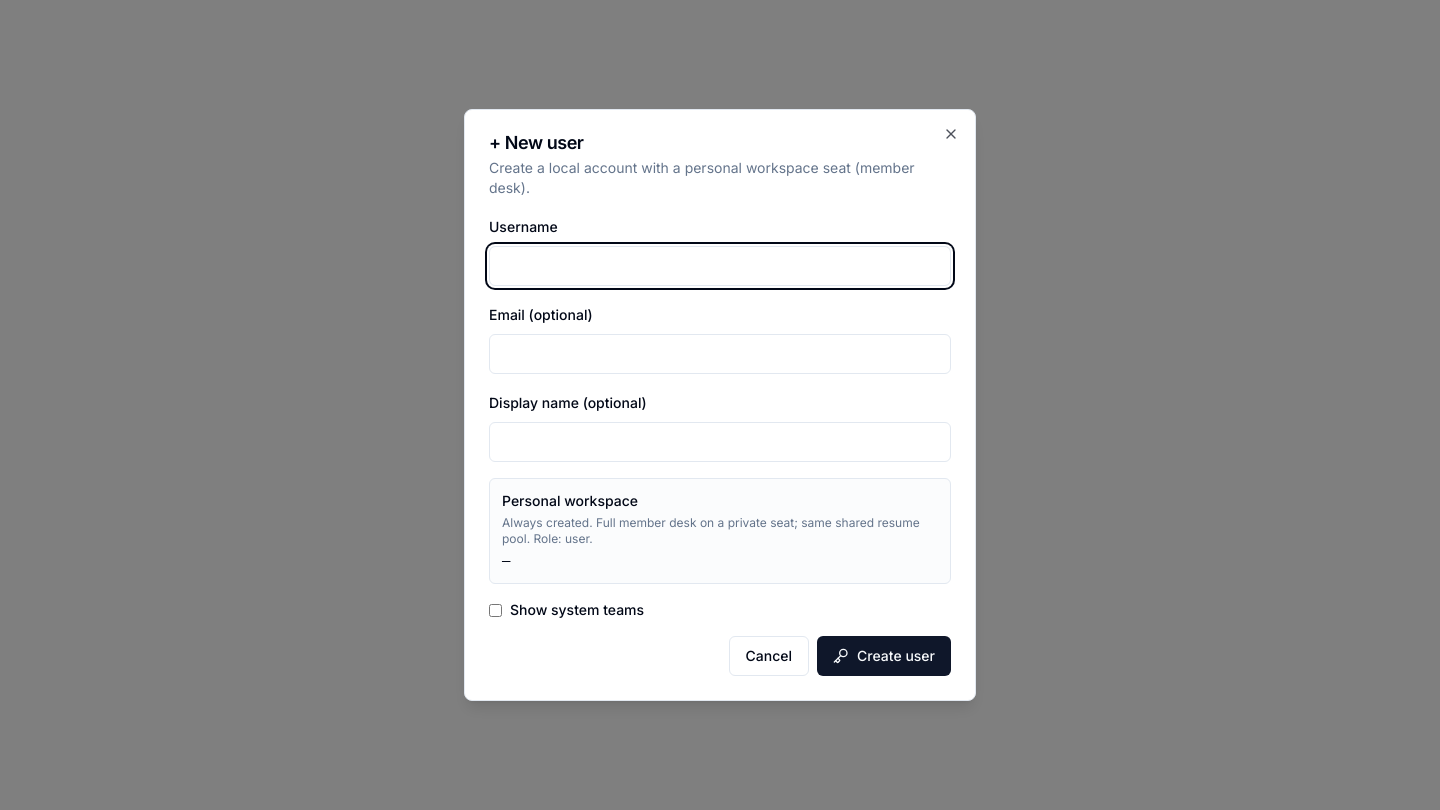
Test: CreateUserDialog › previews personal slug and creates without system memberships by default
The width and height of the screenshot is (1440, 810).
Type "newuser" into the field with test id "create-user-username" at (720, 266), box [489,246,951,286]
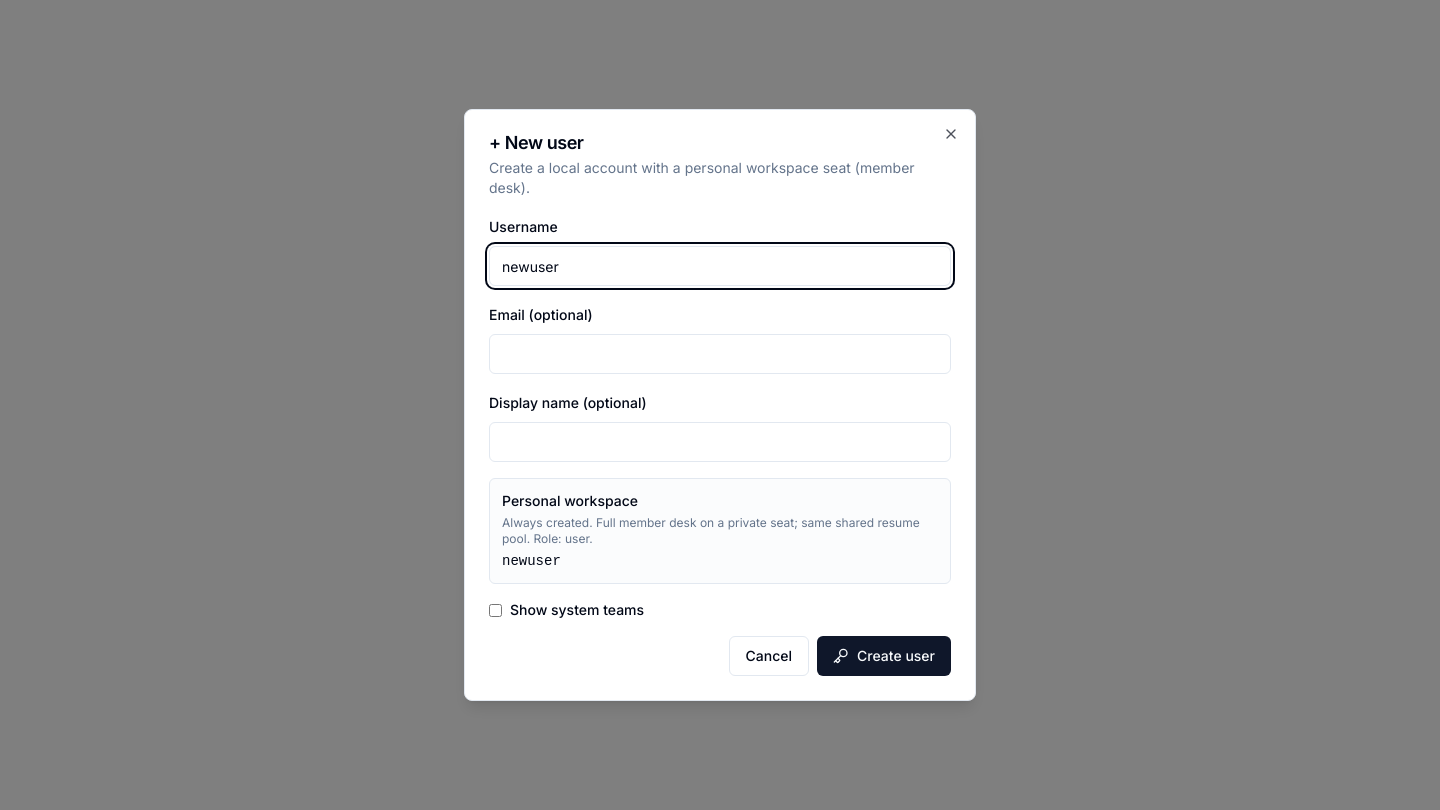
Check: the text with test id "create-user-personal-slug" reads "newuser", box [502,553,561,569]
Click the button with test id "create-user-submit" at (884, 656), box [817,636,951,676]
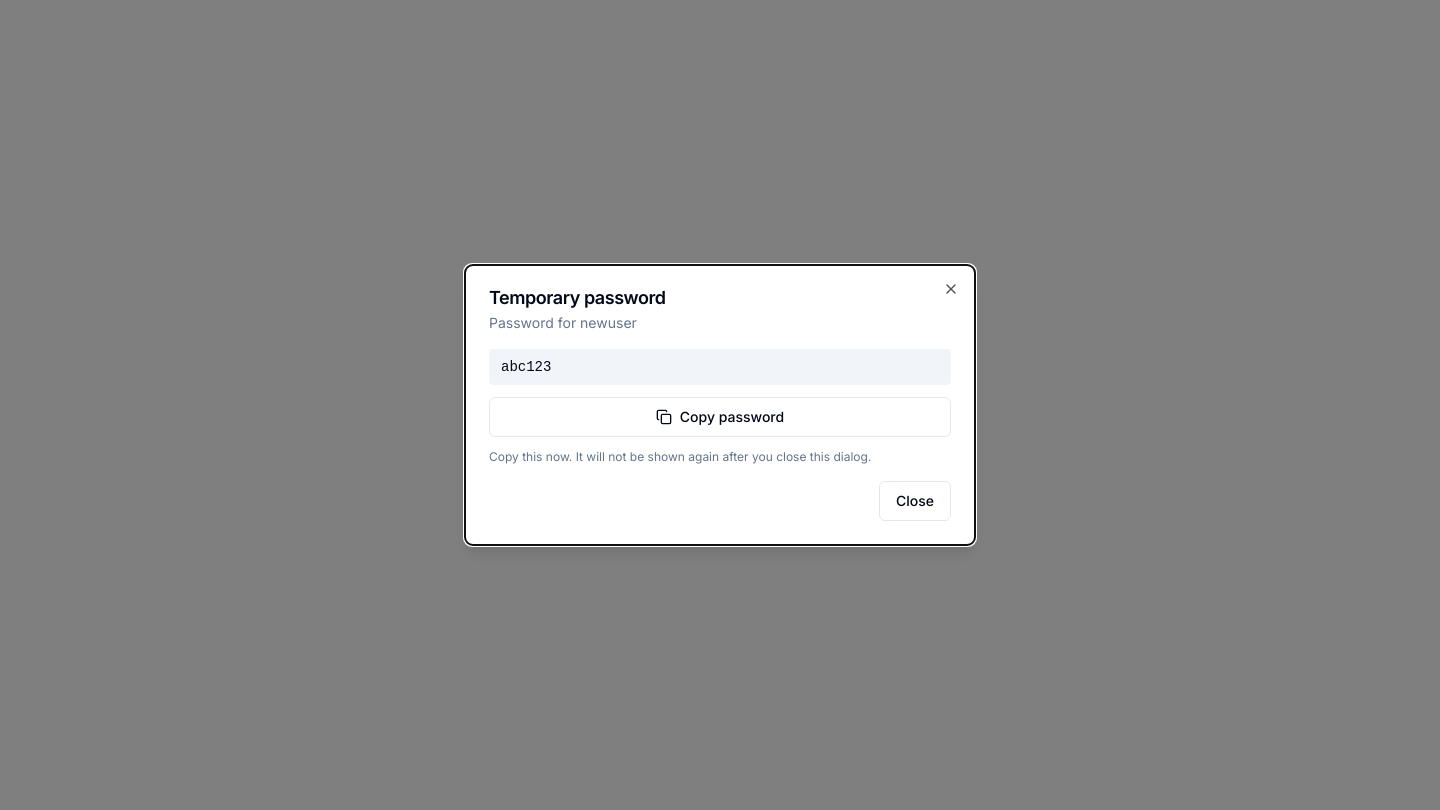
Check: the text "abc123" is shown, box [489,349,951,385]
Check: the button with test id "copy-temp-password" is shown, box [489,397,951,437]
